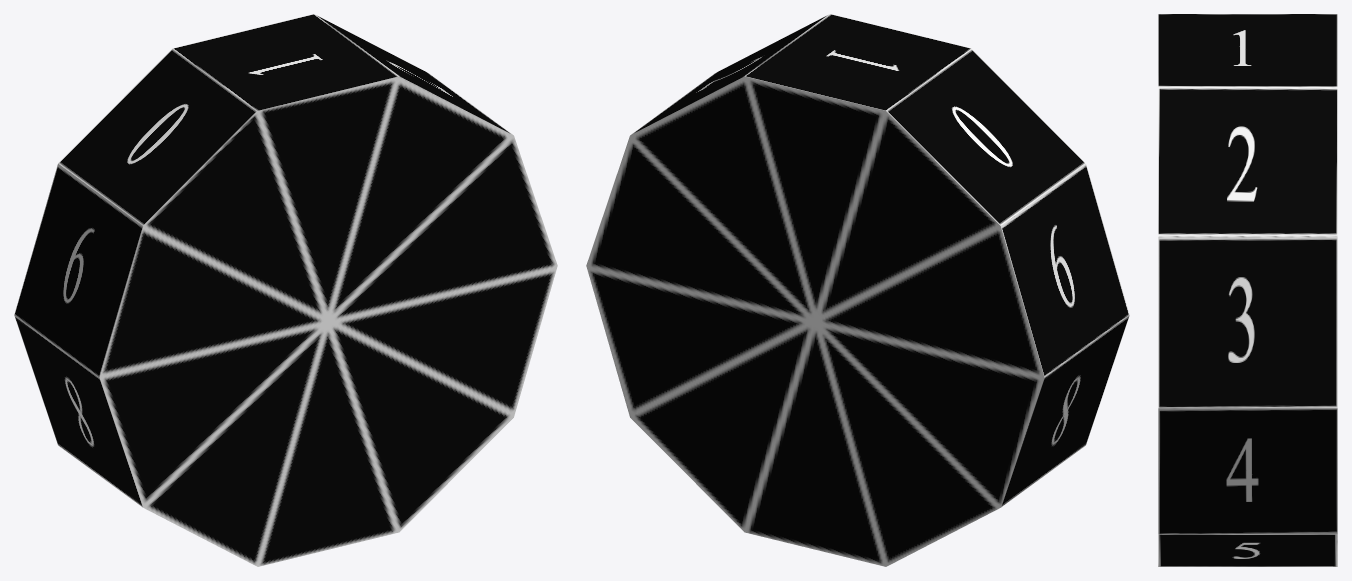
The model's file is Slot.fbx.
The picture shows the model from 3 angles, left to right: view 1: azimuth 30°, elevation 25°; view 2: azimuth 150°, elevation 25°; view 3: azimuth 270°, elevation 25°; orthographic projection. The views are drawn at different scales.
Parts seen in each view (by area): view 1: pCylinder1; view 2: pCylinder1; view 3: pCylinder1.
Part boxes in pixels (x1,y1,x2,y2): pCylinder1: (14, 14, 557, 566); pCylinder1: (586, 14, 1129, 566); pCylinder1: (1158, 14, 1337, 566).
Bounding box in the file's own units: 6 × 5.71 × 1.94.
Materials: 1 (1 with a texture image).
